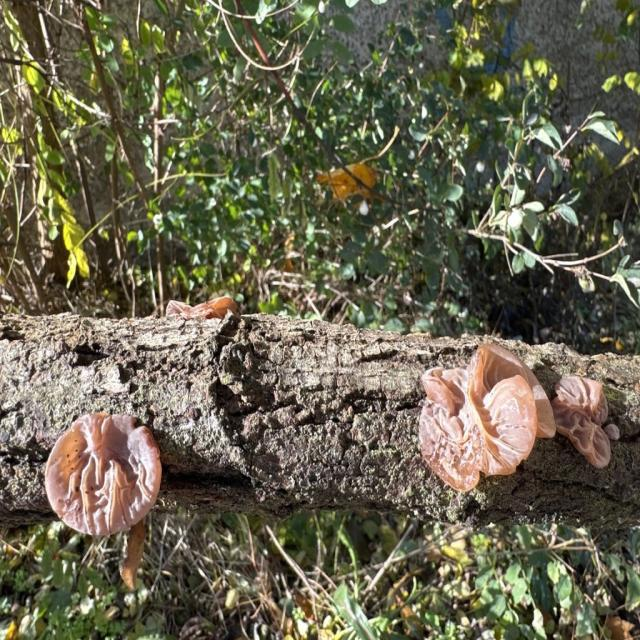Matang: (416, 339, 624, 513), (39, 390, 189, 558)
